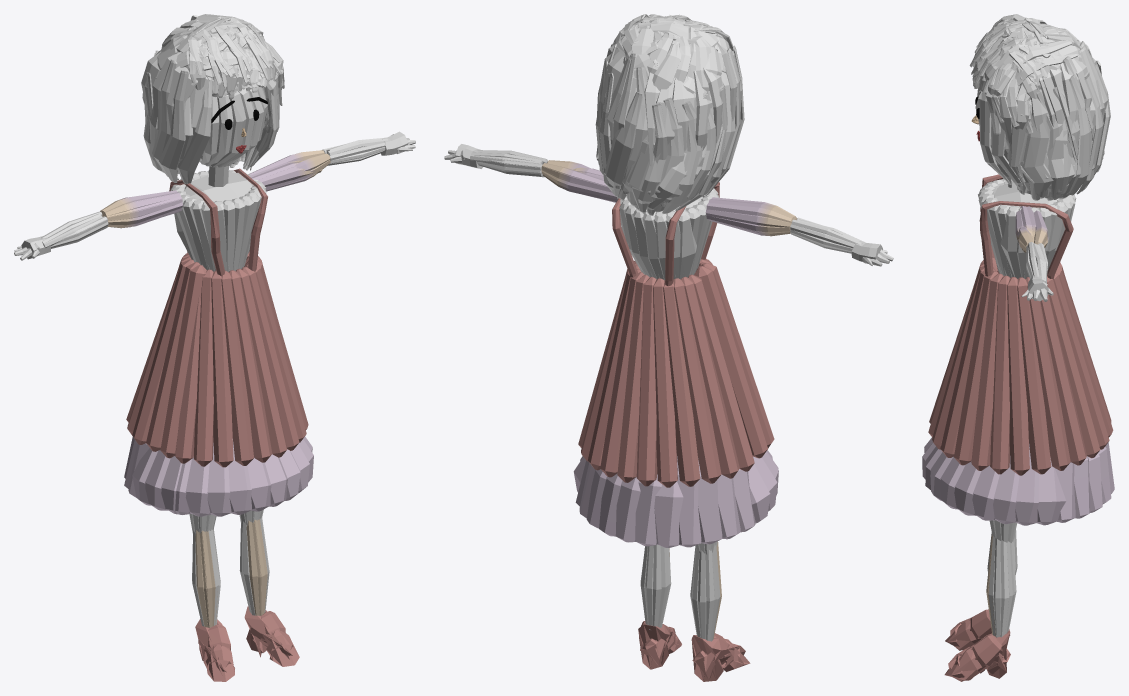
The model's file is mom_t pose.fbx.
3 renders of one model, left to right at view 1: azimuth 30°, elevation 25°; view 2: azimuth 150°, elevation 25°; view 3: azimuth 270°, elevation 25°, orthographic. The views are drawn at different scales.
Parts seen in each view (by area): view 1: Skirt, Hair, Feet (×2), Chest, Uparm (×2), Ear, Lowarm-1 (×2), Leg-lower (×2); view 2: Skirt, Hair, Chest, Leg-lower (×2), Uparm (×2), Feet (×2), Lowarm-1 (×2), hand; view 3: Skirt, Hair, Chest, Feet (×2), Leg-lower, Uparm, Lowarm-1, hand, Leg.
Boxes of the visible parts, x1,y1,x2,y2 form: Skirt: (124, 168, 313, 516); Hair: (141, 14, 284, 184); Feet (×2): (195, 519, 299, 681); Chest: (170, 170, 266, 271); Uparm (×2): (100, 150, 330, 228); Ear: (199, 87, 267, 167); Lowarm-1 (×2): (41, 137, 387, 248); Leg-lower (×2): (192, 517, 269, 626); Skirt: (573, 182, 778, 547); Hair: (595, 14, 744, 215); Chest: (617, 188, 719, 280); Leg-lower (×2): (640, 544, 720, 641); Uparm (×2): (541, 160, 797, 236); Feet (×2): (638, 542, 750, 681); Lowarm-1 (×2): (470, 150, 865, 253); hand: (851, 241, 893, 266); Skirt: (922, 174, 1114, 525); Hair: (969, 14, 1110, 200); Chest: (978, 179, 1076, 278); Feet (×2): (944, 534, 1010, 681); Leg-lower: (988, 536, 1016, 637); Uparm: (1015, 206, 1048, 252); Lowarm-1: (1026, 242, 1047, 283); hand: (1021, 275, 1053, 301); Leg: (989, 520, 1017, 542).
Size of the model in its own units: 1.49 by 2.19 by 0.6009.
